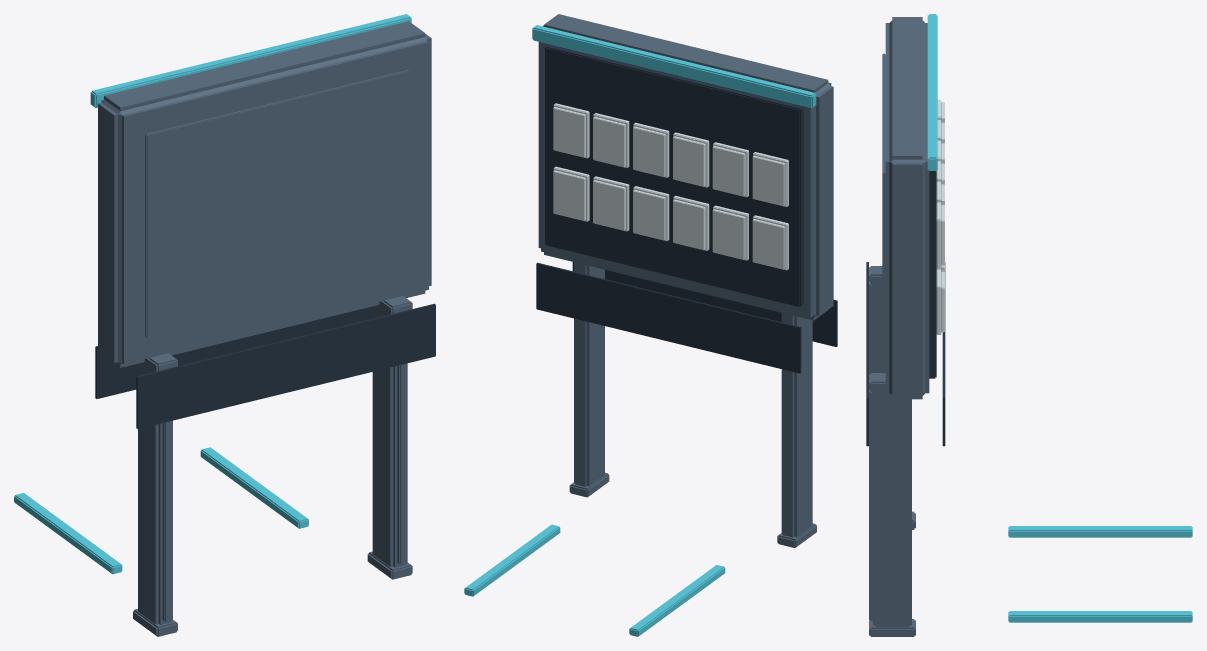
3 renders of one model, left to right at view 1: azimuth 30°, elevation 25°; view 2: azimuth 150°, elevation 25°; view 3: azimuth 270°, elevation 25°, orthographic. The views are drawn at different scales.
Visible parts, largest first — view 1: ConsoleHousing, Audience progress backing, Right leg, Left leg, Front progress backing, AwardHeader, Right stance rail, Left stance rail; view 2: RecessedDisplay, ConsoleHousing, Front progress backing, Left leg, Right leg, AwardHeader, Audience progress backing, Letter 4, Letter 3, Letter 2, Letter 11, Letter 5 (+9 smaller); view 3: ConsoleHousing, Right leg, Left stance rail, Right stance rail, AwardHeader, RecessedDisplay, Left leg, Letter 11, Letter 5, Audience progress backing, Front progress backing.
Part boxes in pixels (x1=…): ConsoleHousing: x1=98, y1=21, x2=431, y2=367; Audience progress backing: x1=136, y1=303, x2=435, y2=428; Right leg: x1=367, y1=296, x2=412, y2=579; Left leg: x1=133, y1=353, x2=177, y2=636; Front progress backing: x1=95, y1=306, x2=372, y2=398; AwardHeader: x1=90, y1=14, x2=411, y2=107; Right stance rail: x1=200, y1=447, x2=308, y2=528; Left stance rail: x1=14, y1=493, x2=122, y2=574; RecessedDisplay: x1=545, y1=44, x2=803, y2=307; ConsoleHousing: x1=538, y1=14, x2=833, y2=320; Front progress backing: x1=536, y1=262, x2=801, y2=373; Left leg: x1=777, y1=313, x2=816, y2=547; Right leg: x1=569, y1=262, x2=609, y2=497; AwardHeader: x1=532, y1=25, x2=816, y2=108; Audience progress backing: x1=572, y1=262, x2=837, y2=346; Letter 4: x1=593, y1=113, x2=629, y2=167; Letter 3: x1=633, y1=122, x2=669, y2=177; Letter 2: x1=673, y1=132, x2=709, y2=187; Letter 11: x1=553, y1=166, x2=589, y2=221; Letter 5: x1=553, y1=103, x2=589, y2=158; ConsoleHousing: x1=882, y1=17, x2=929, y2=399; Right leg: x1=869, y1=373, x2=915, y2=636; Left stance rail: x1=1008, y1=526, x2=1192, y2=537; Right stance rail: x1=1008, y1=611, x2=1192, y2=622; AwardHeader: x1=927, y1=14, x2=937, y2=170; RecessedDisplay: x1=929, y1=170, x2=936, y2=378; Left leg: x1=869, y1=266, x2=915, y2=529; Letter 11: x1=936, y1=269, x2=944, y2=334; Letter 5: x1=936, y1=202, x2=944, y2=267; Audience progress backing: x1=866, y1=262, x2=868, y2=446; Front progress backing: x1=942, y1=262, x2=945, y2=446.
Bounding box in the file's own units: 1.02 × 1.62 × 0.973.
